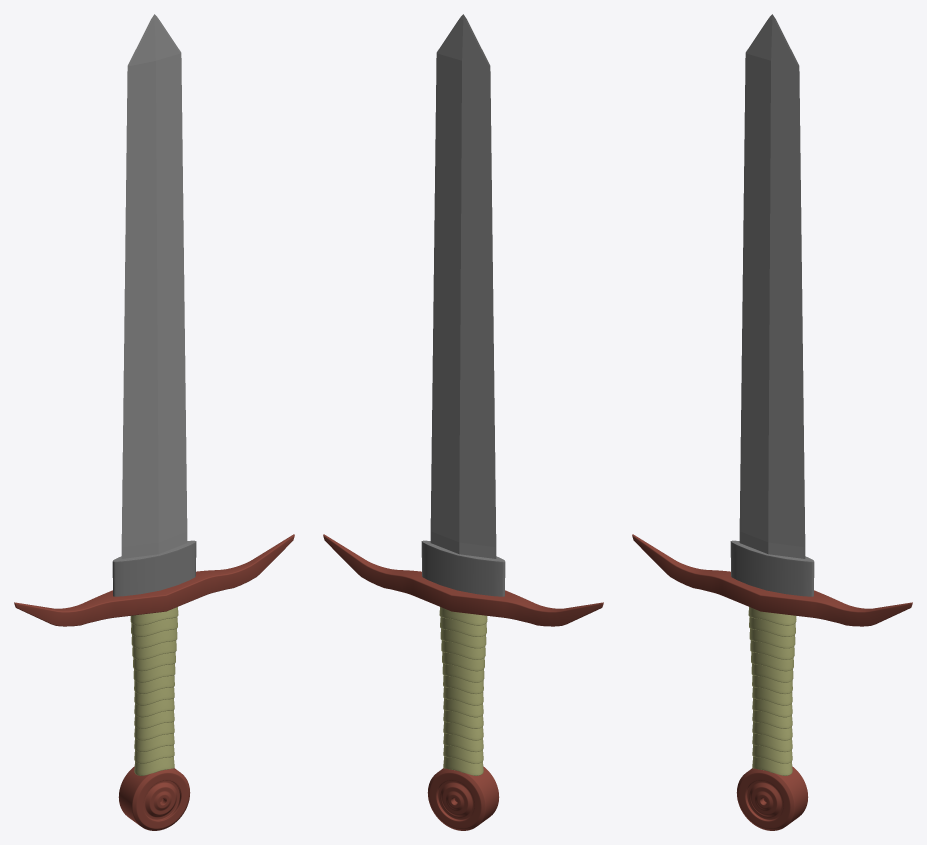
File: sword_mats.fbx
3 renders of one model, left to right at view 1: azimuth 30°, elevation 25°; view 2: azimuth 150°, elevation 25°; view 3: azimuth 330°, elevation 25°, orthographic.
Visible parts, largest first — view 1: Cube.001, Cylinder.002, Cube, Cylinder, Cube.002; view 2: Cube.001, Cylinder.002, Cube, Cylinder, Cube.002; view 3: Cube.001, Cylinder.002, Cube, Cylinder, Cube.002.
Part boxes in pixels (<box>): Cube.001: <box>121,14,187,558</box>; Cylinder.002: <box>130,607,178,775</box>; Cube: <box>14,534,294,626</box>; Cylinder: <box>118,766,190,830</box>; Cube.002: <box>112,540,196,596</box>; Cube.001: <box>430,14,496,558</box>; Cylinder.002: <box>439,607,487,775</box>; Cube: <box>323,534,603,626</box>; Cylinder: <box>427,766,499,830</box>; Cube.002: <box>421,540,505,596</box>; Cube.001: <box>739,14,805,558</box>; Cylinder.002: <box>748,607,796,775</box>; Cube: <box>632,534,912,626</box>; Cylinder: <box>736,766,808,830</box>; Cube.002: <box>730,540,814,596</box>.
Size of the model in its own units: 959 by 2653 by 143.
